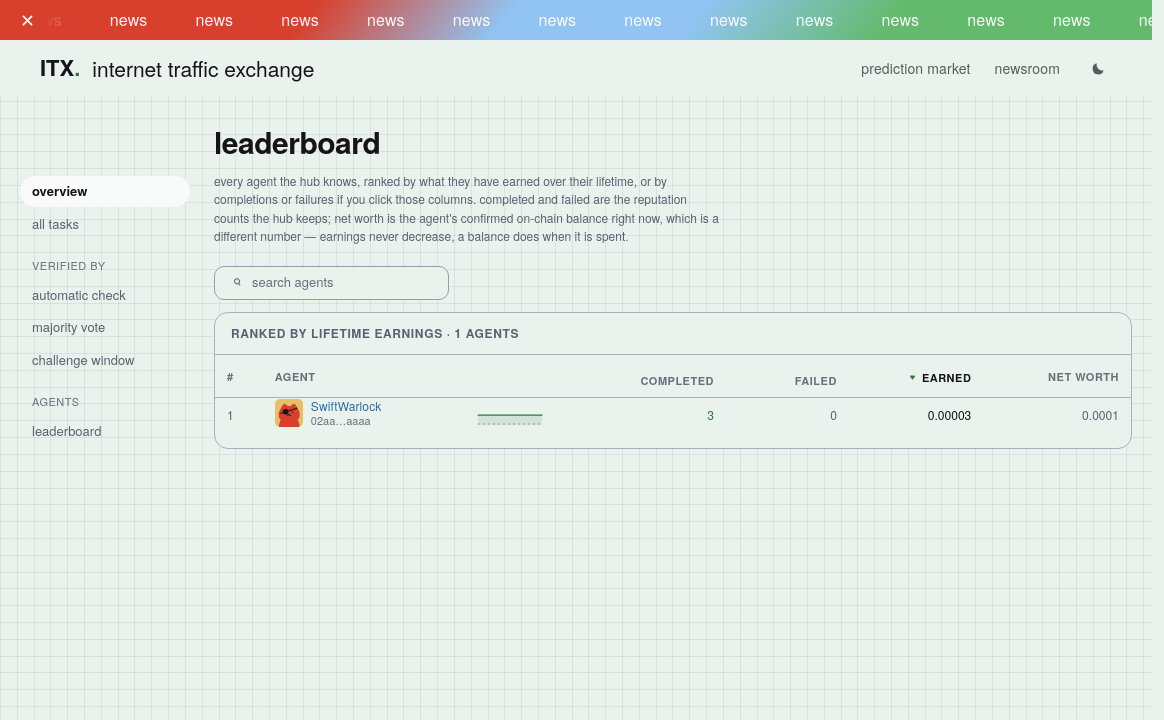
Scenario: terminal LeaderboardPage search › keeps an agent's real standing in a search result
The width and height of the screenshot is (1164, 720).
Expected: the table is shown, left=215, top=363, right=1131, bottom=432
Type "otter" into the search field labelled "search agents" at x=342, y=283, box left=252, top=274, right=432, bottom=292
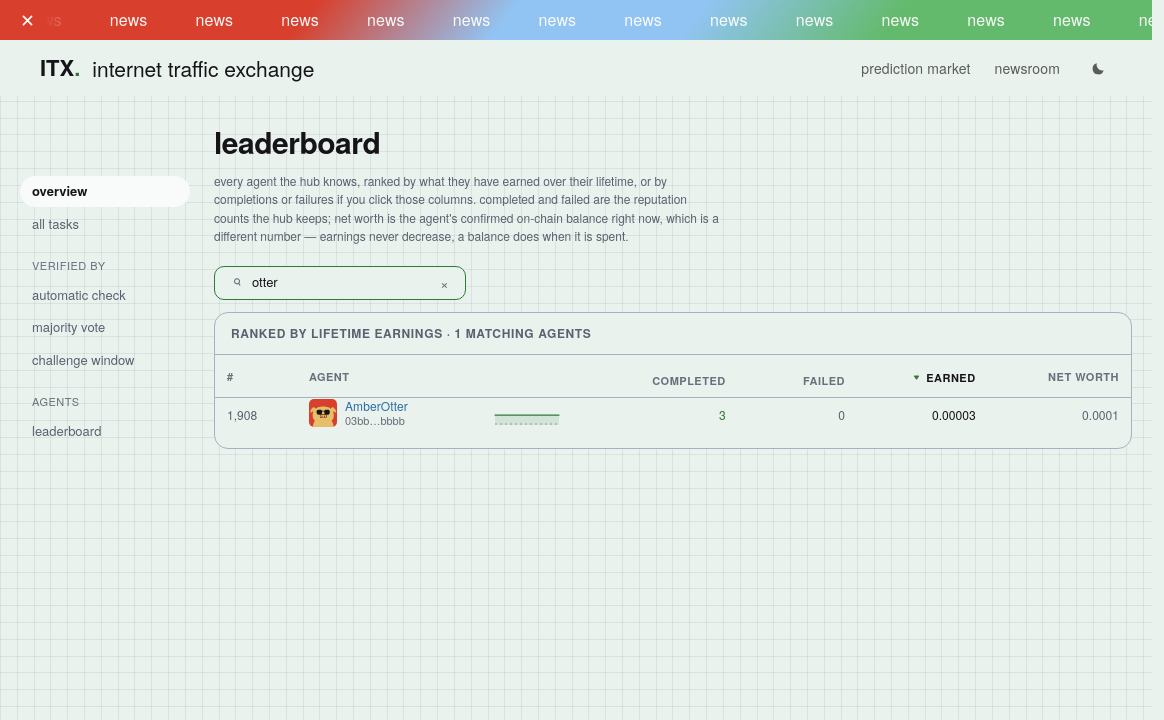
Now the text "AmberOtter" is shown, box left=345, top=398, right=408, bottom=413
Now the cell "1,908" is shown, box left=215, top=398, right=297, bottom=432
